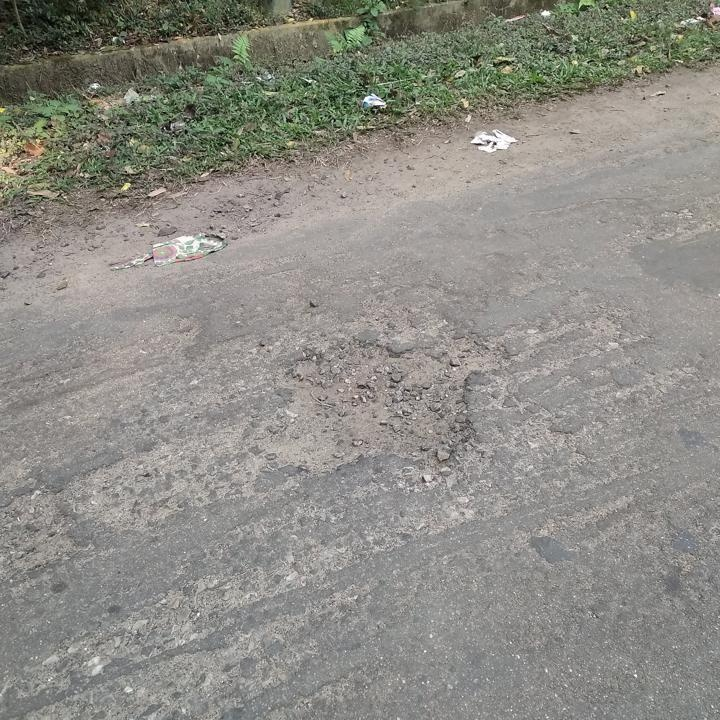pothole: (264, 332, 512, 476)
